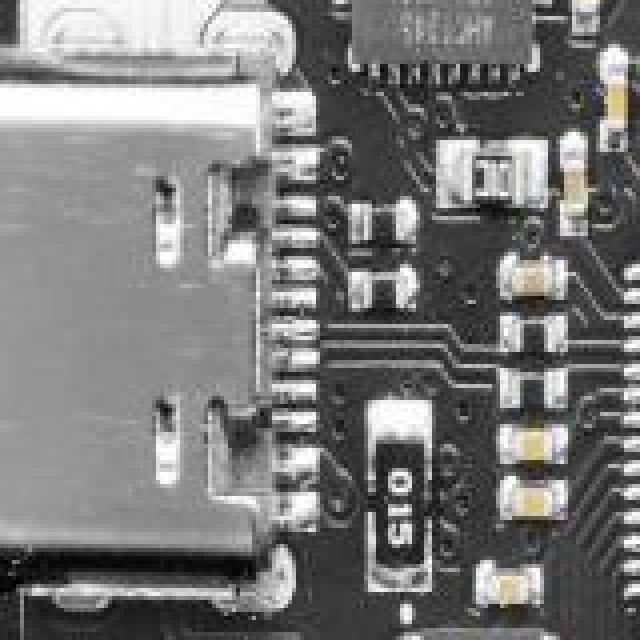IC: (352, 0, 548, 88), (628, 196, 640, 640), (416, 632, 548, 640)
capacitor: (512, 424, 556, 468), (604, 68, 628, 148), (488, 568, 522, 606), (516, 488, 556, 520), (580, 0, 600, 36)
connector: (4, 76, 310, 570)
resistor: (372, 428, 424, 566), (460, 152, 528, 202), (508, 368, 550, 418), (516, 324, 564, 354), (364, 220, 406, 252), (368, 276, 406, 310)
